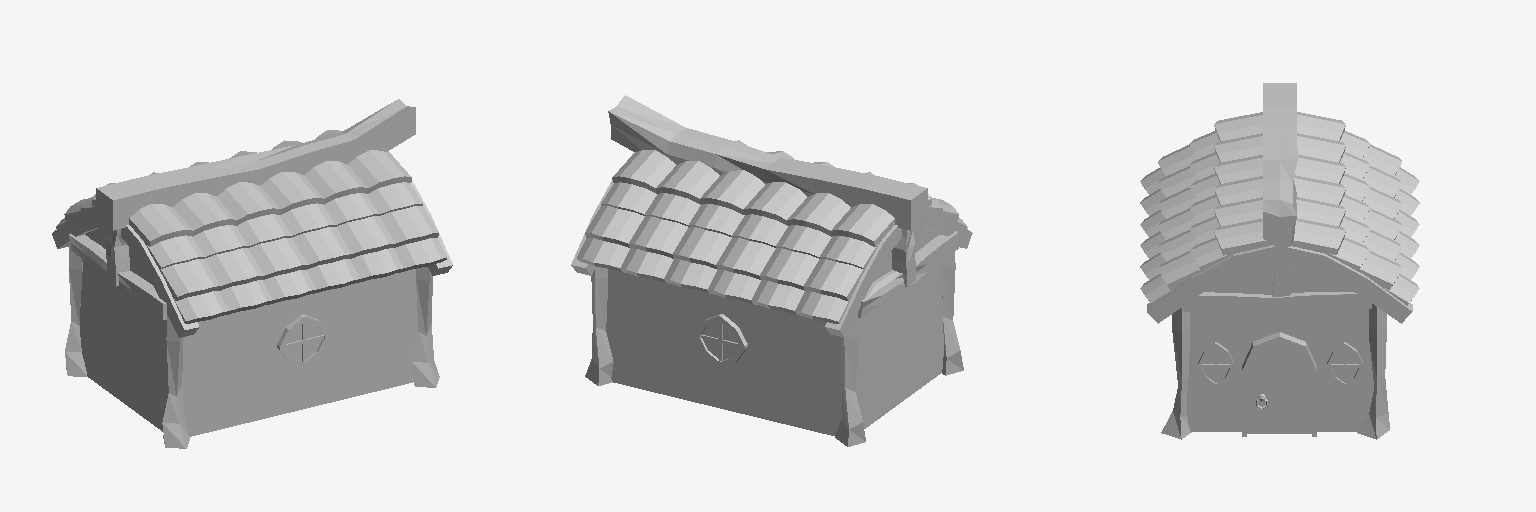
The model's file is House1.obj.
3 views of the same model, side by side, from view 1: azimuth 30°, elevation 25°; view 2: azimuth 150°, elevation 25°; view 3: azimuth 270°, elevation 25° (orthographic).
Visible parts, largest first — view 1: Cube.039; view 2: Cube.039; view 3: Cube.039.
Boxes of the visible parts, box(x1,y1,x2,y2) form: Cube.039: box(52, 99, 452, 448); Cube.039: box(571, 95, 972, 446); Cube.039: box(1140, 83, 1419, 439).
Bounding box in the file's own units: 4.71 × 3.51 × 3.77.